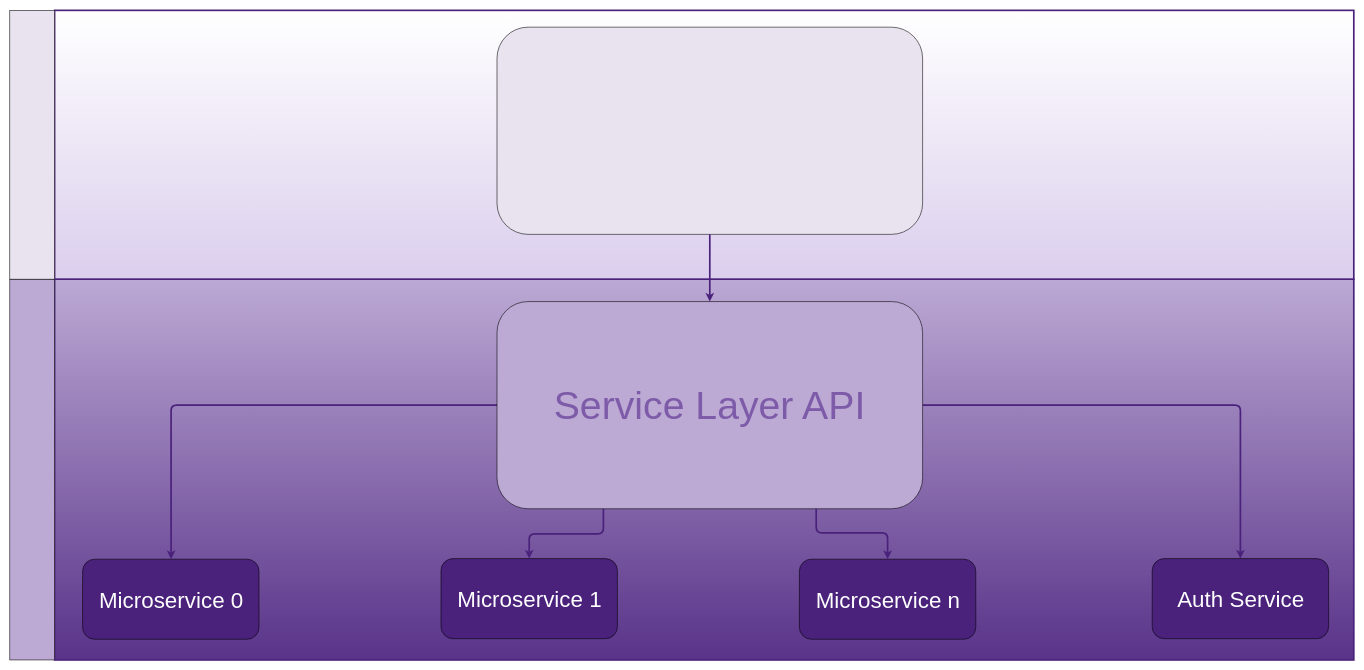
Image size: 1364x670. Some labels were removed from this diagram. Here are the shapes that lost their labels. From the top down, the centre of each, then its label:
the point at 32,144: Untrusted
the point at 709,130: Front-End(s)
the point at 32,469: Trusted (Back-end)
